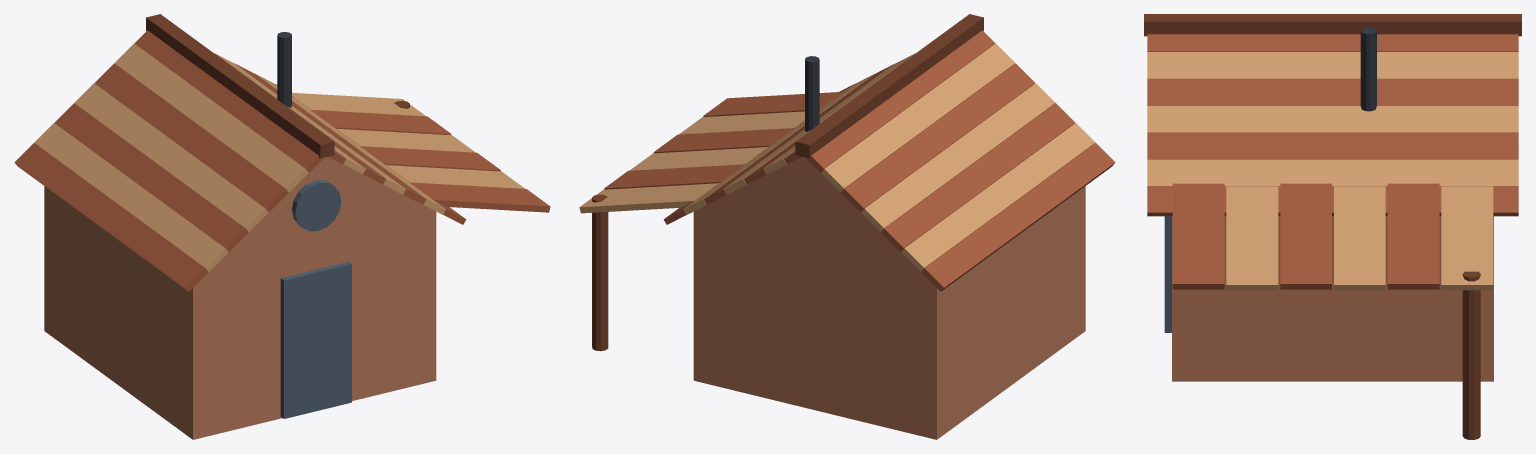
File: nogita_banya_hut.fbx
3 renders of one model, left to right at view 1: azimuth 30°, elevation 25°; view 2: azimuth 150°, elevation 25°; view 3: azimuth 270°, elevation 25°, orthographic. The views are drawn at different scales.
Visible parts, largest first — view 1: Cube; view 2: Cube; view 3: Cube.
Boxes of the visible parts, x1,y1,x2,y2 form: Cube: (14, 14, 550, 439); Cube: (579, 14, 1115, 439); Cube: (1144, 14, 1521, 439).
Size of the model in its own units: 5.26 by 3.93 by 4.22.
